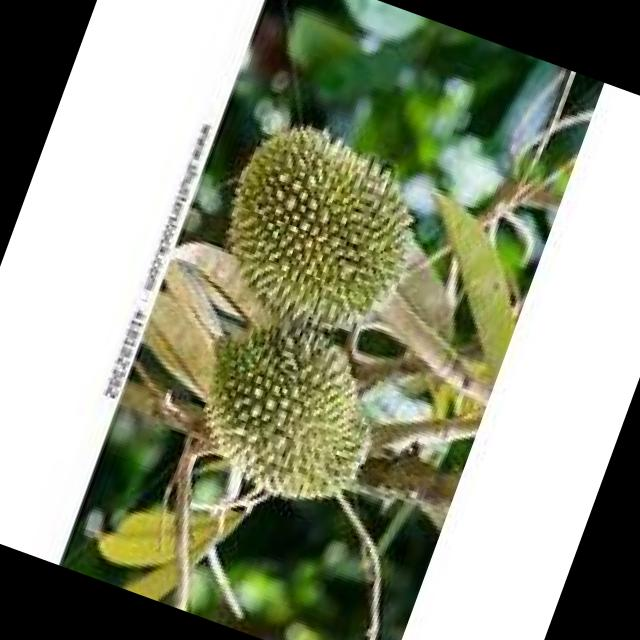fruit: (168, 81, 476, 386), (140, 272, 432, 556)
